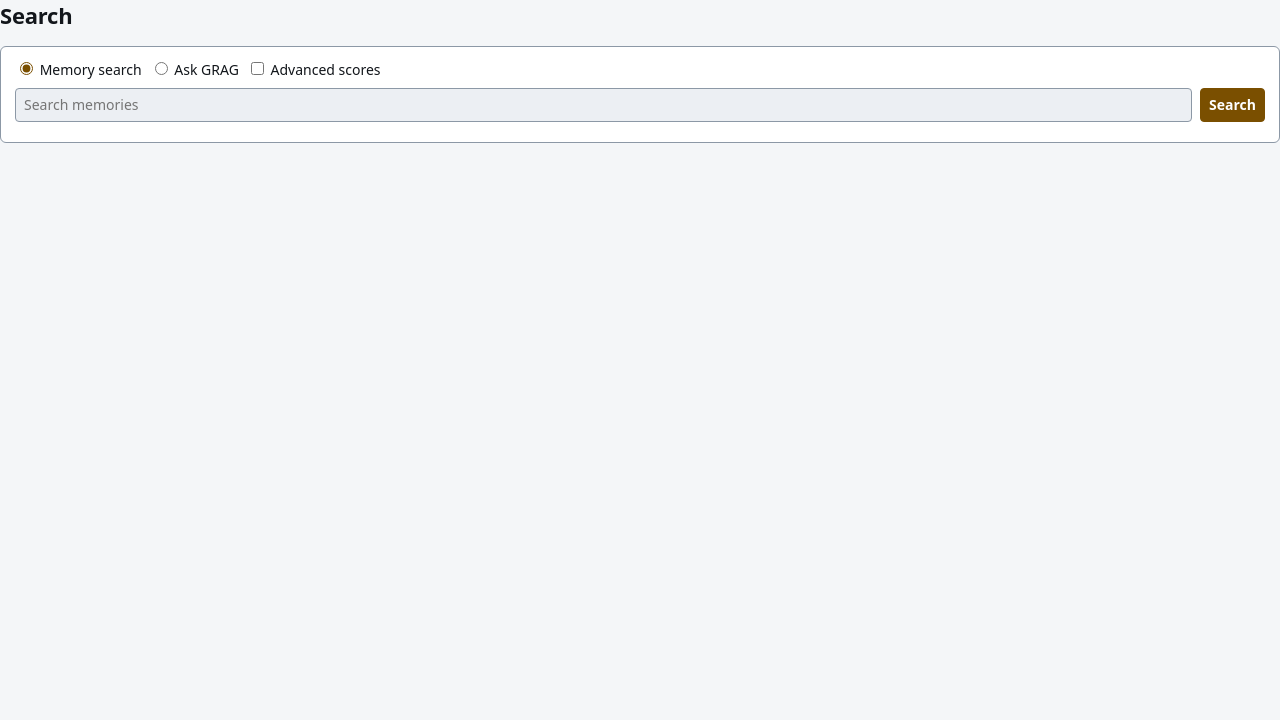
it: evidence cards show provenance and hide component scores until advanced is on
Type "valve" into the search field at point(604, 105), box [15,88,1192,122]
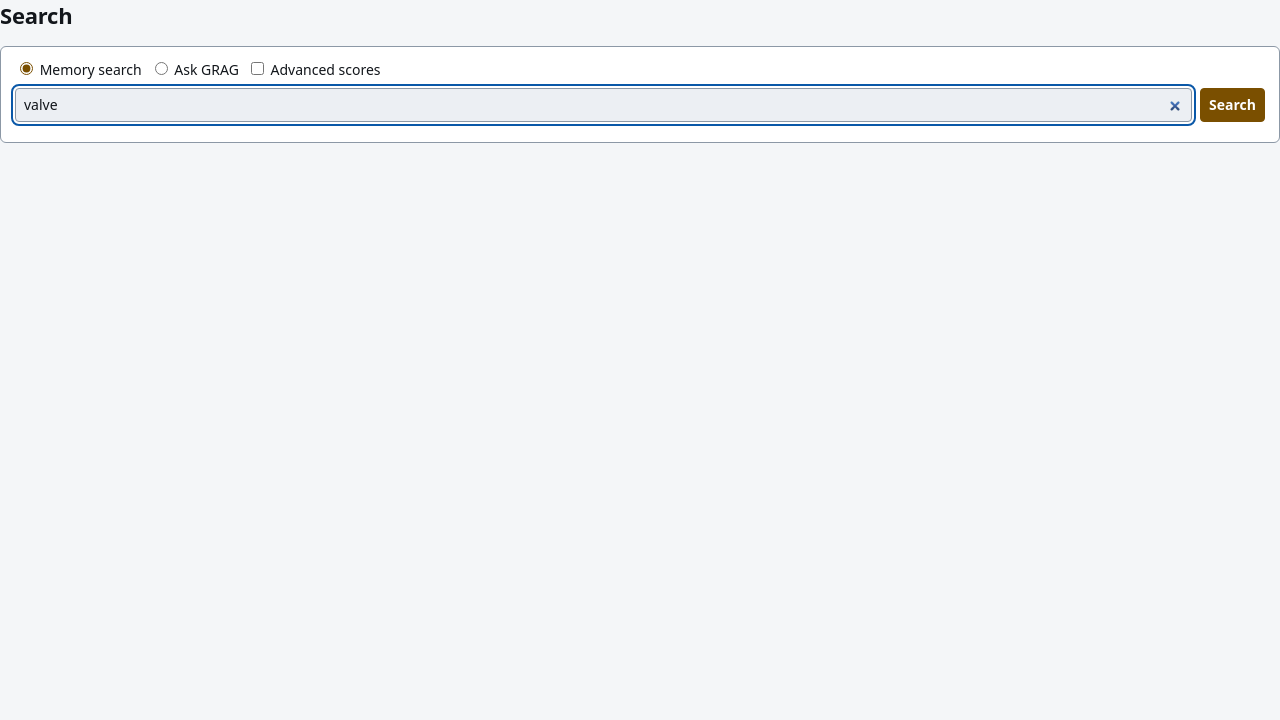
Click the button "Search" at point(1233, 105), box [1200,88,1265,122]
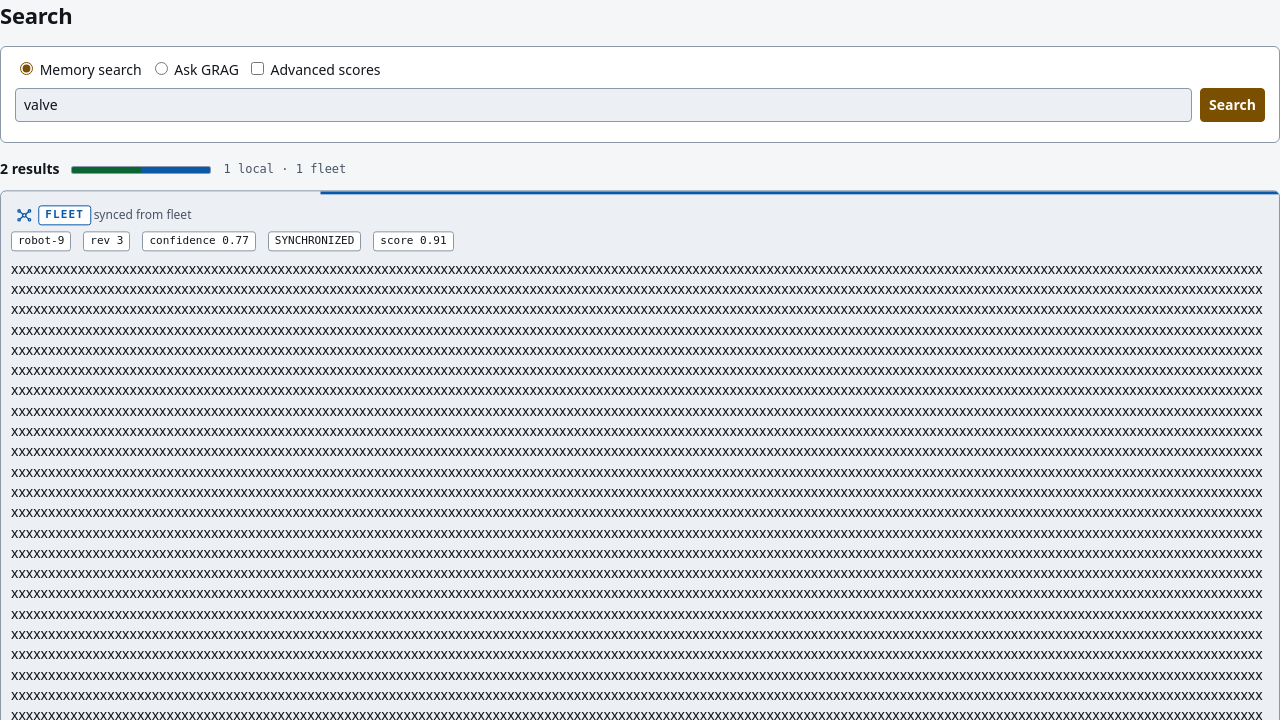
Result: the number of elements with test id "evidence-card" is 2
Result: the element with test id "evidence-card" shows "FLEET" at [45,208,84,221]
Result: the element with test id "evidence-card" shows "robot-9" at [18,234,64,247]
Click the checkbox labelled "Advanced scores" at point(257, 68), box [251,62,264,75]
(page scrolled)
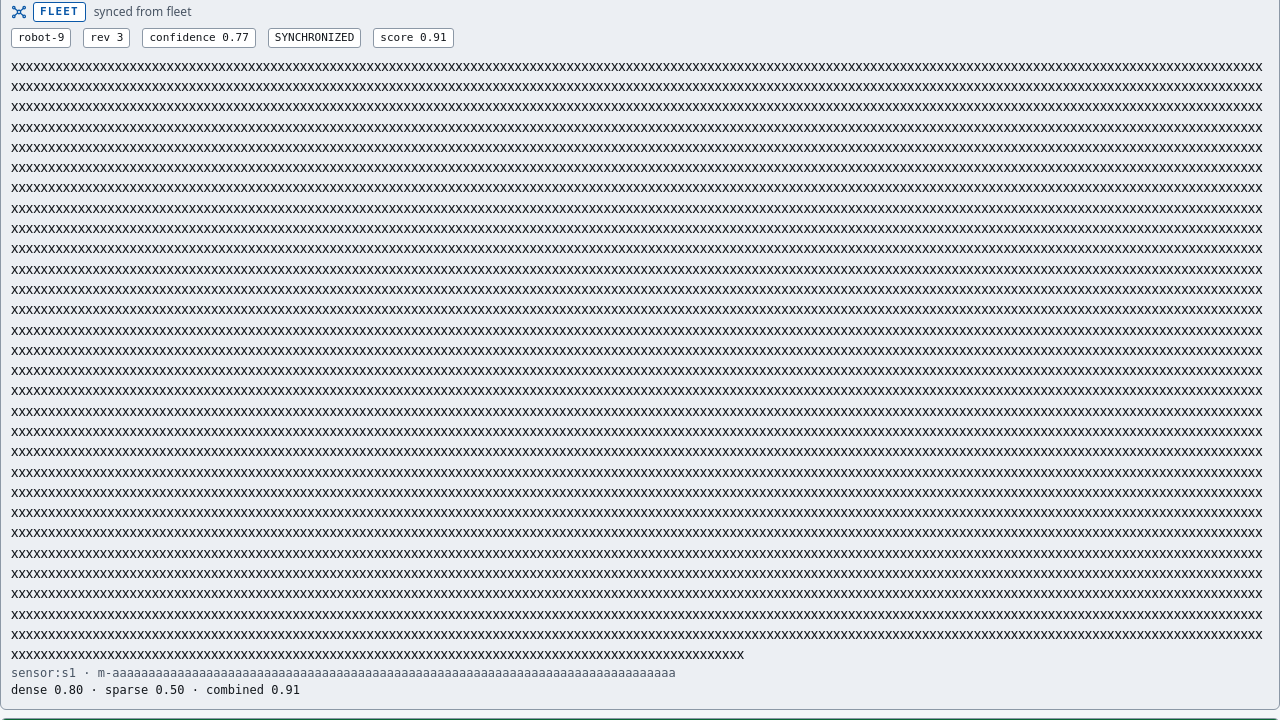
Result: the text "dense 0.80 · sparse 0.50 · combined 0.91" is shown at [11,683,300,697]
